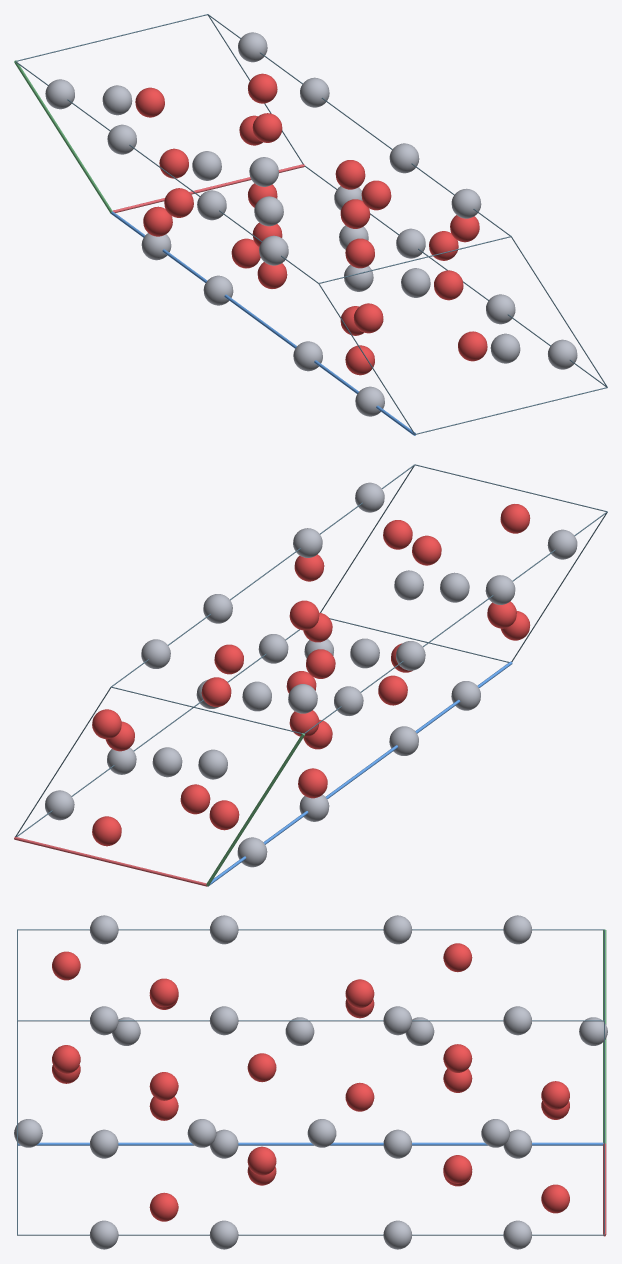
File: chat-corundum.glb
3 views of the same model, one above another, from view 1: azimuth 30°, elevation 25°; view 2: azimuth 150°, elevation 25°; view 3: azimuth 270°, elevation 25° (orthographic). The views are drawn at different scales.
Parts seen in each view (by area): view 1: Al · Al · 1 (×22), O · O · 1 (×18), Ô mạng và các trục a, b, c; view 2: Al · Al · 1 (×22), O · O · 1 (×16), Ô mạng và các trục a, b, c; view 3: Al · Al · 1 (×24), O · O · 1 (×16), Ô mạng và các trục a, b, c.
Part boxes in pixels (x1,y1,x2,y2): Al · Al · 1 (×22): [45, 32, 577, 416]; O · O · 1 (×18): [135, 73, 487, 375]; Ô mạng và các trục a, b, c: [14, 14, 607, 435]; Al · Al · 1 (×22): [45, 482, 577, 867]; O · O · 1 (×16): [92, 504, 530, 846]; Ô mạng và các trục a, b, c: [14, 464, 607, 886]; Al · Al · 1 (×24): [14, 915, 607, 1249]; O · O · 1 (×16): [52, 943, 569, 1221]; Ô mạng và các trục a, b, c: [17, 929, 606, 1236].
Size of the model in its own units: 7.78 by 4.76 by 13.14.
